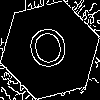O: (25, 25, 73, 79)
